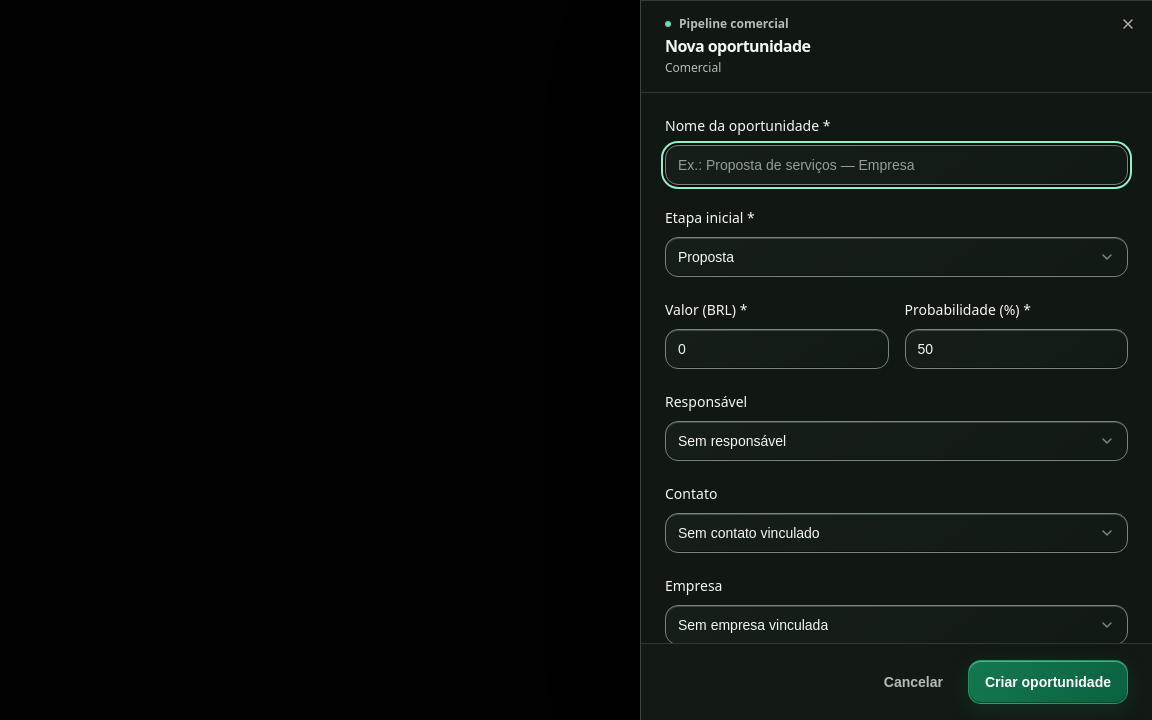
Test: formulário de oportunidade › não grava um valor inválido e explica o campo que precisa ser corrigido
In the field labelled "Nome da oportunidade *": (896, 165) [665,145,1128,185], type "Contrato anual"
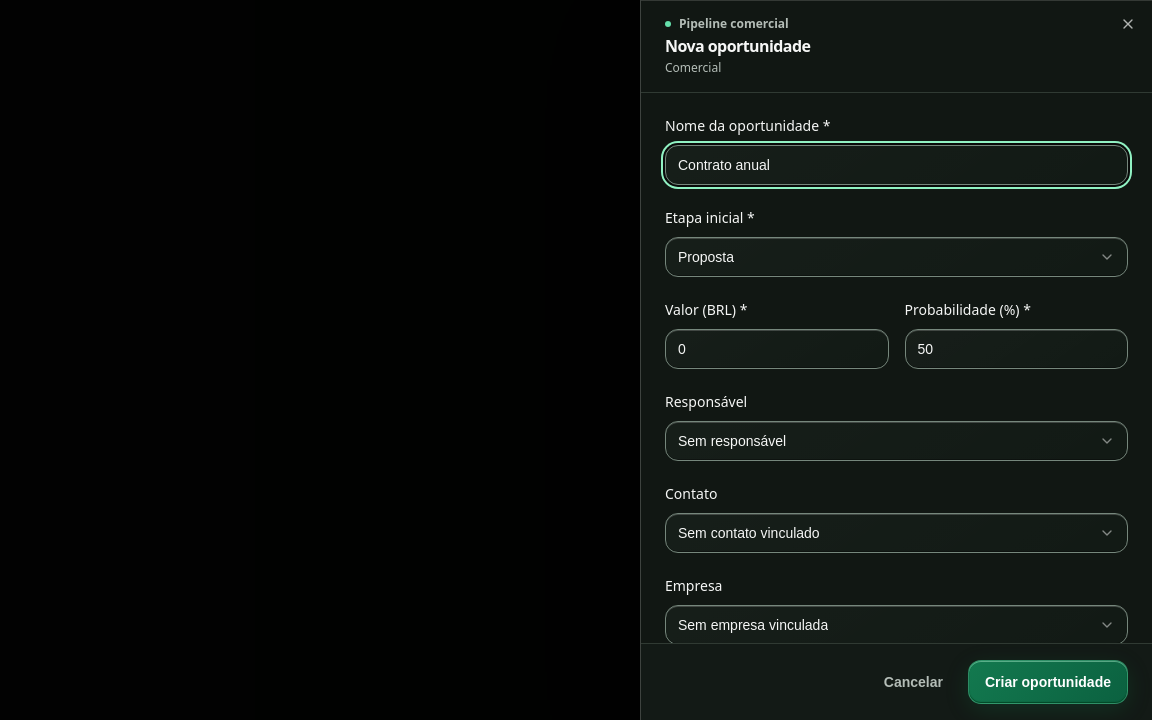
Replace the text in the field labelled "Valor (BRL) *" with "-99": (777, 349) [665,329,888,369]
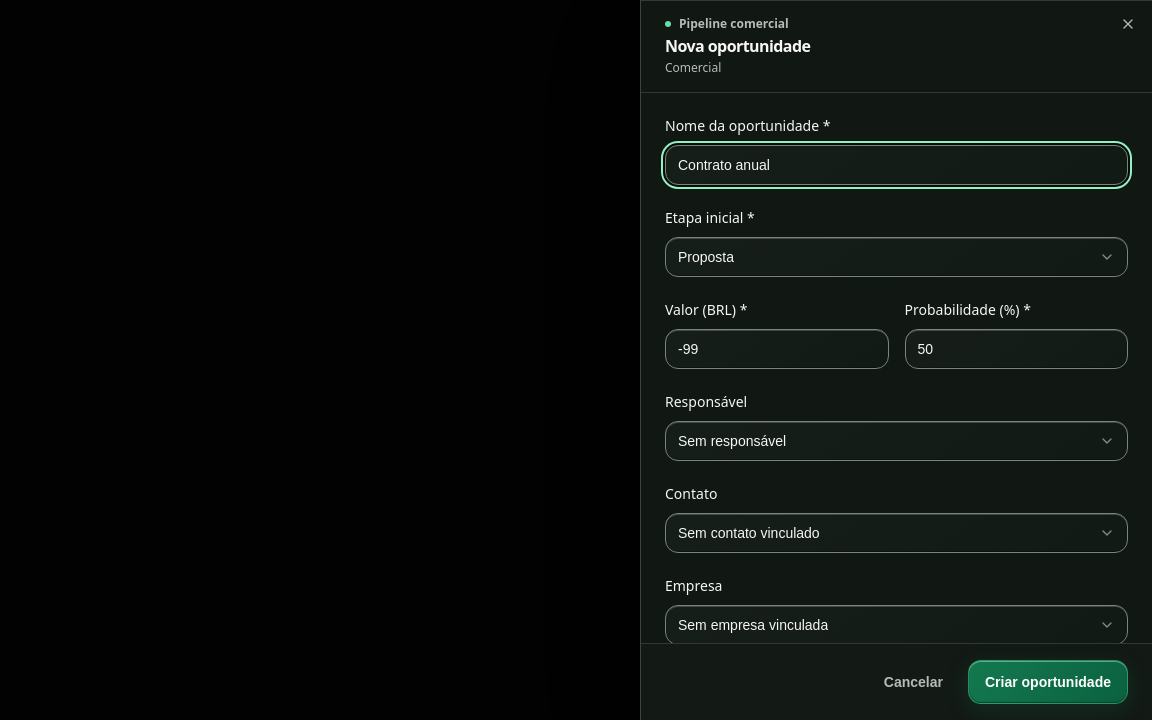
Click the button "Criar oportunidade": (1048, 682) [968,660,1128,704]
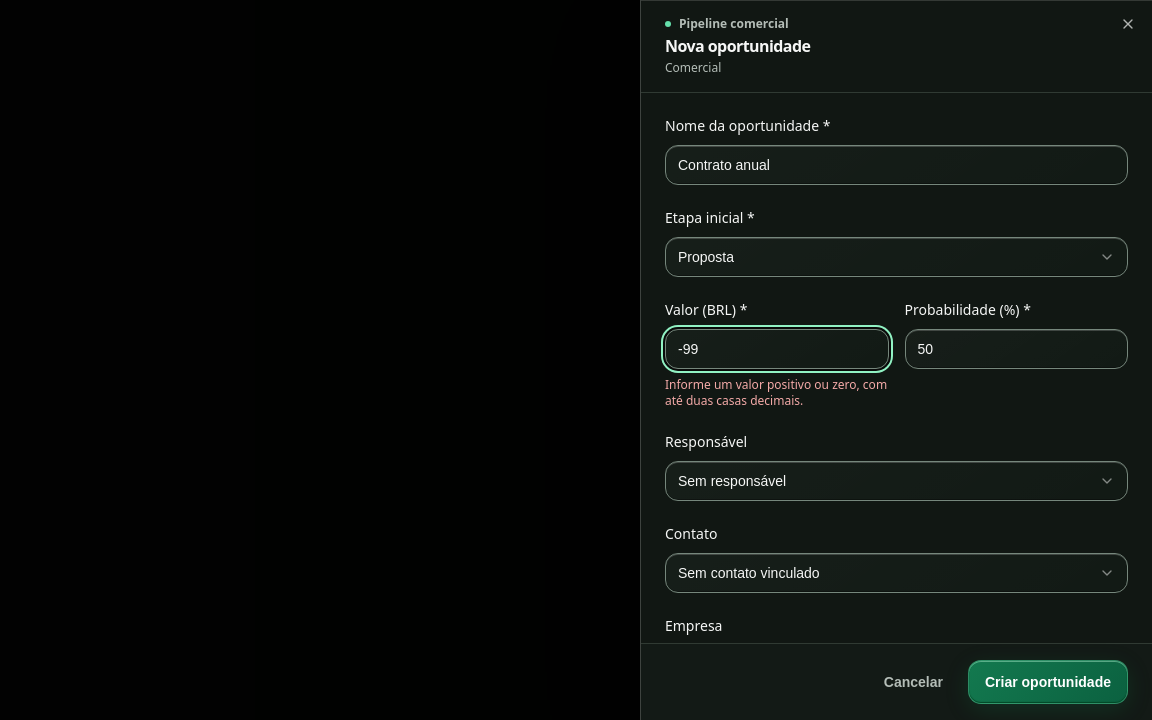
Check: the text "Informe um valor positivo ou zero, com até duas casas decimais." is shown, box [665,377,888,409]
